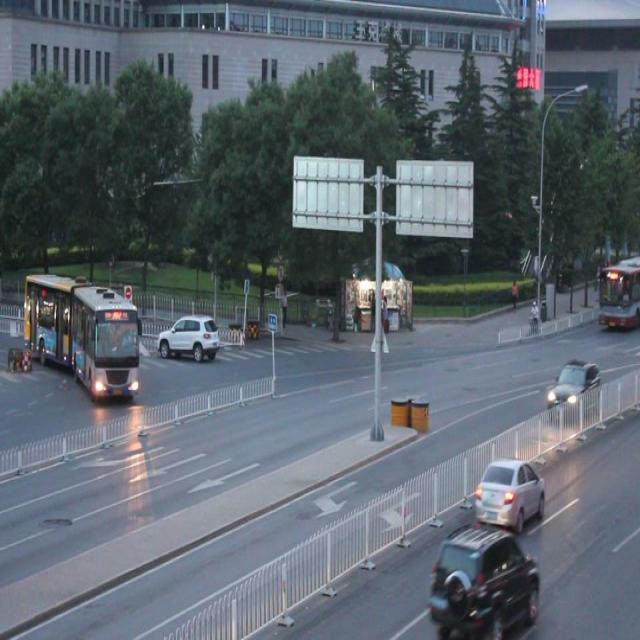car: (427, 522, 537, 640), (474, 454, 544, 530), (157, 312, 220, 363), (547, 361, 598, 414)
van: (25, 273, 140, 395)
